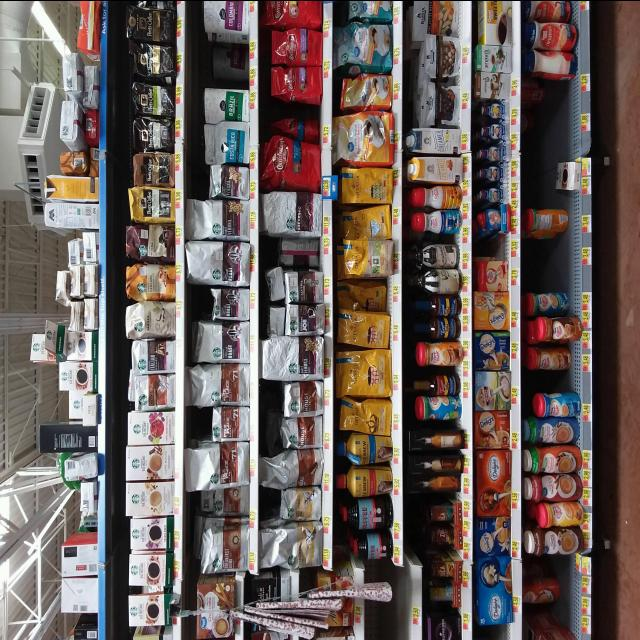empty_space: (529, 92, 579, 201), (369, 564, 416, 638), (527, 246, 577, 286), (203, 51, 249, 85), (272, 98, 319, 126), (559, 548, 577, 620)
